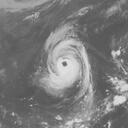cyclone: (45, 25, 93, 95)
